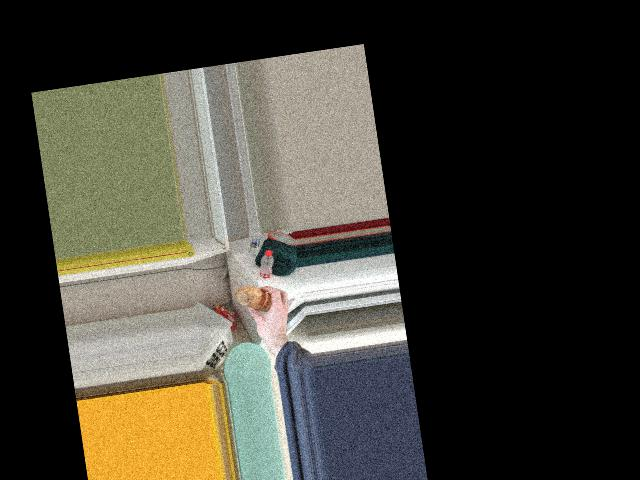sweet_potato: (241, 282, 272, 314)
